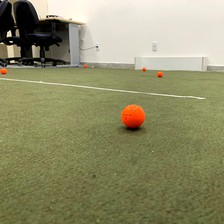ball: (117, 99, 149, 133), (1, 65, 10, 75), (155, 69, 164, 78), (80, 62, 89, 70), (140, 65, 147, 73)
goal: (131, 52, 209, 73)
